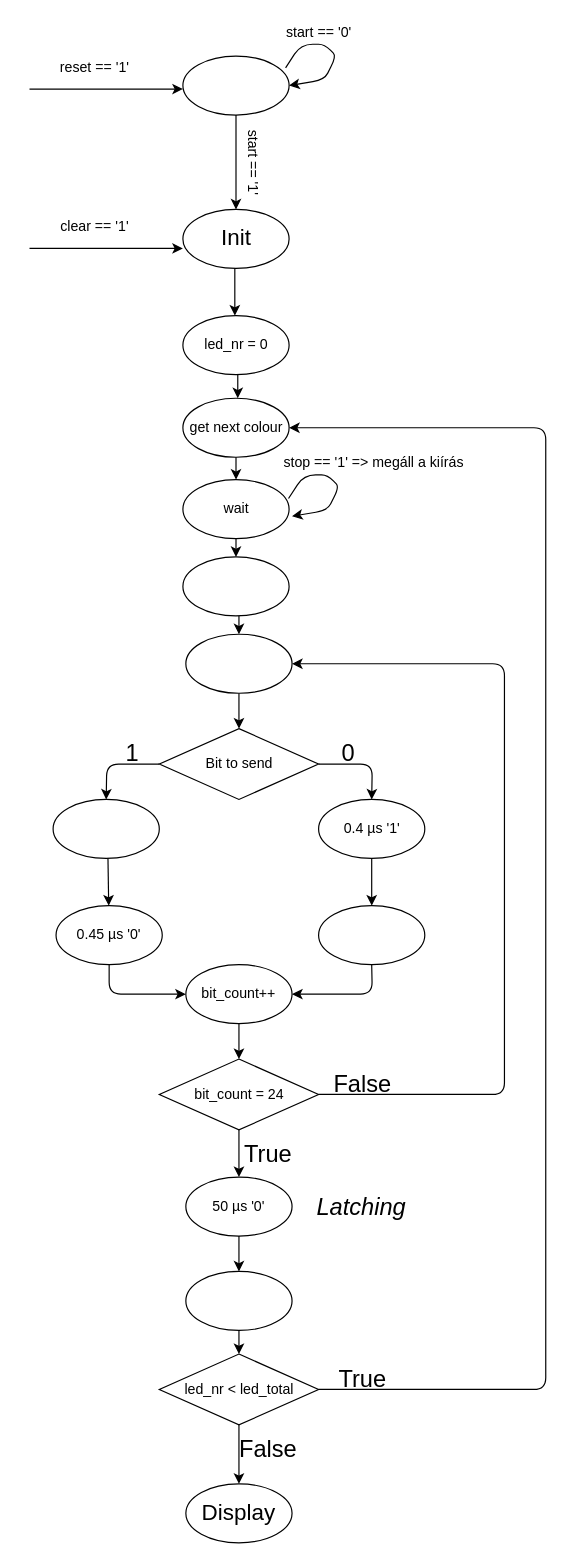
The diagram is 576 pixels wide and 1563 high, and some of its shapes have lost their labels. Each missing label, with the box of its shape:
0.8 µs '0': (317, 904, 425, 965)
0.8 µs '1': (52, 798, 159, 858)
bit_count = 0: (182, 556, 289, 616)
get next bit: (185, 633, 292, 693)
led_nr++: (185, 1270, 292, 1330)
Ready: (182, 55, 289, 115)
